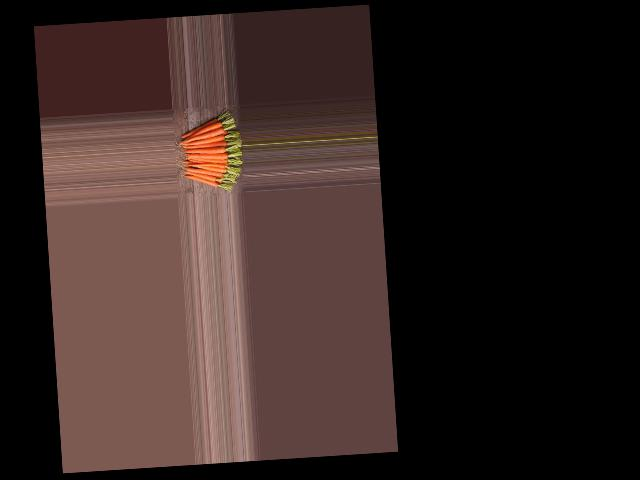carrot: (186, 180, 219, 188)
